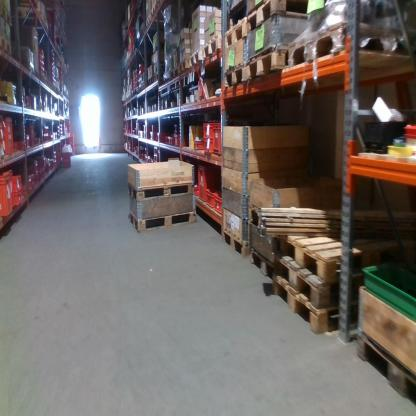pallet: (290, 17, 416, 70), (352, 330, 415, 411), (276, 279, 339, 331), (278, 257, 336, 302), (284, 235, 341, 270), (245, 45, 290, 86), (126, 207, 198, 232), (128, 180, 197, 201), (244, 10, 296, 35), (247, 248, 280, 286), (248, 209, 287, 238), (219, 226, 254, 255), (224, 14, 248, 51), (221, 59, 244, 94), (204, 31, 224, 64), (188, 51, 202, 75), (163, 69, 180, 87), (181, 61, 190, 83)
small_load_carrier: (196, 161, 220, 187), (206, 185, 222, 213), (214, 119, 223, 159), (196, 182, 207, 204), (202, 136, 216, 153), (214, 191, 223, 217), (202, 123, 216, 139), (62, 147, 72, 168), (172, 130, 185, 145), (25, 174, 35, 192), (16, 187, 24, 207), (16, 170, 23, 190), (166, 131, 174, 146), (193, 140, 202, 151), (147, 130, 158, 139), (149, 122, 159, 131), (153, 152, 159, 164), (152, 146, 159, 155)
